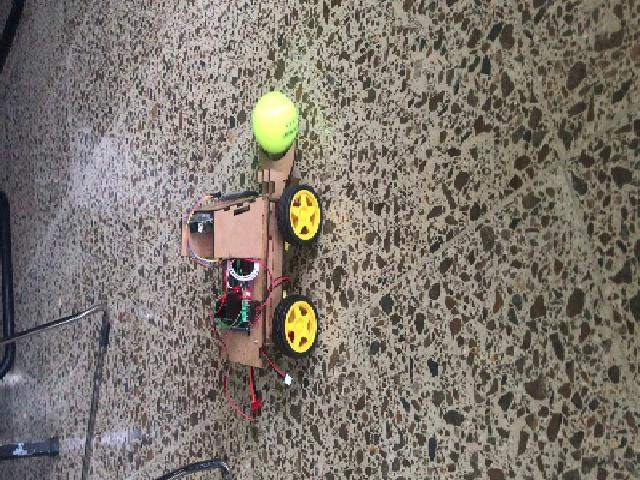Ball: (250, 92, 296, 154)
Robot: (179, 143, 322, 368)
